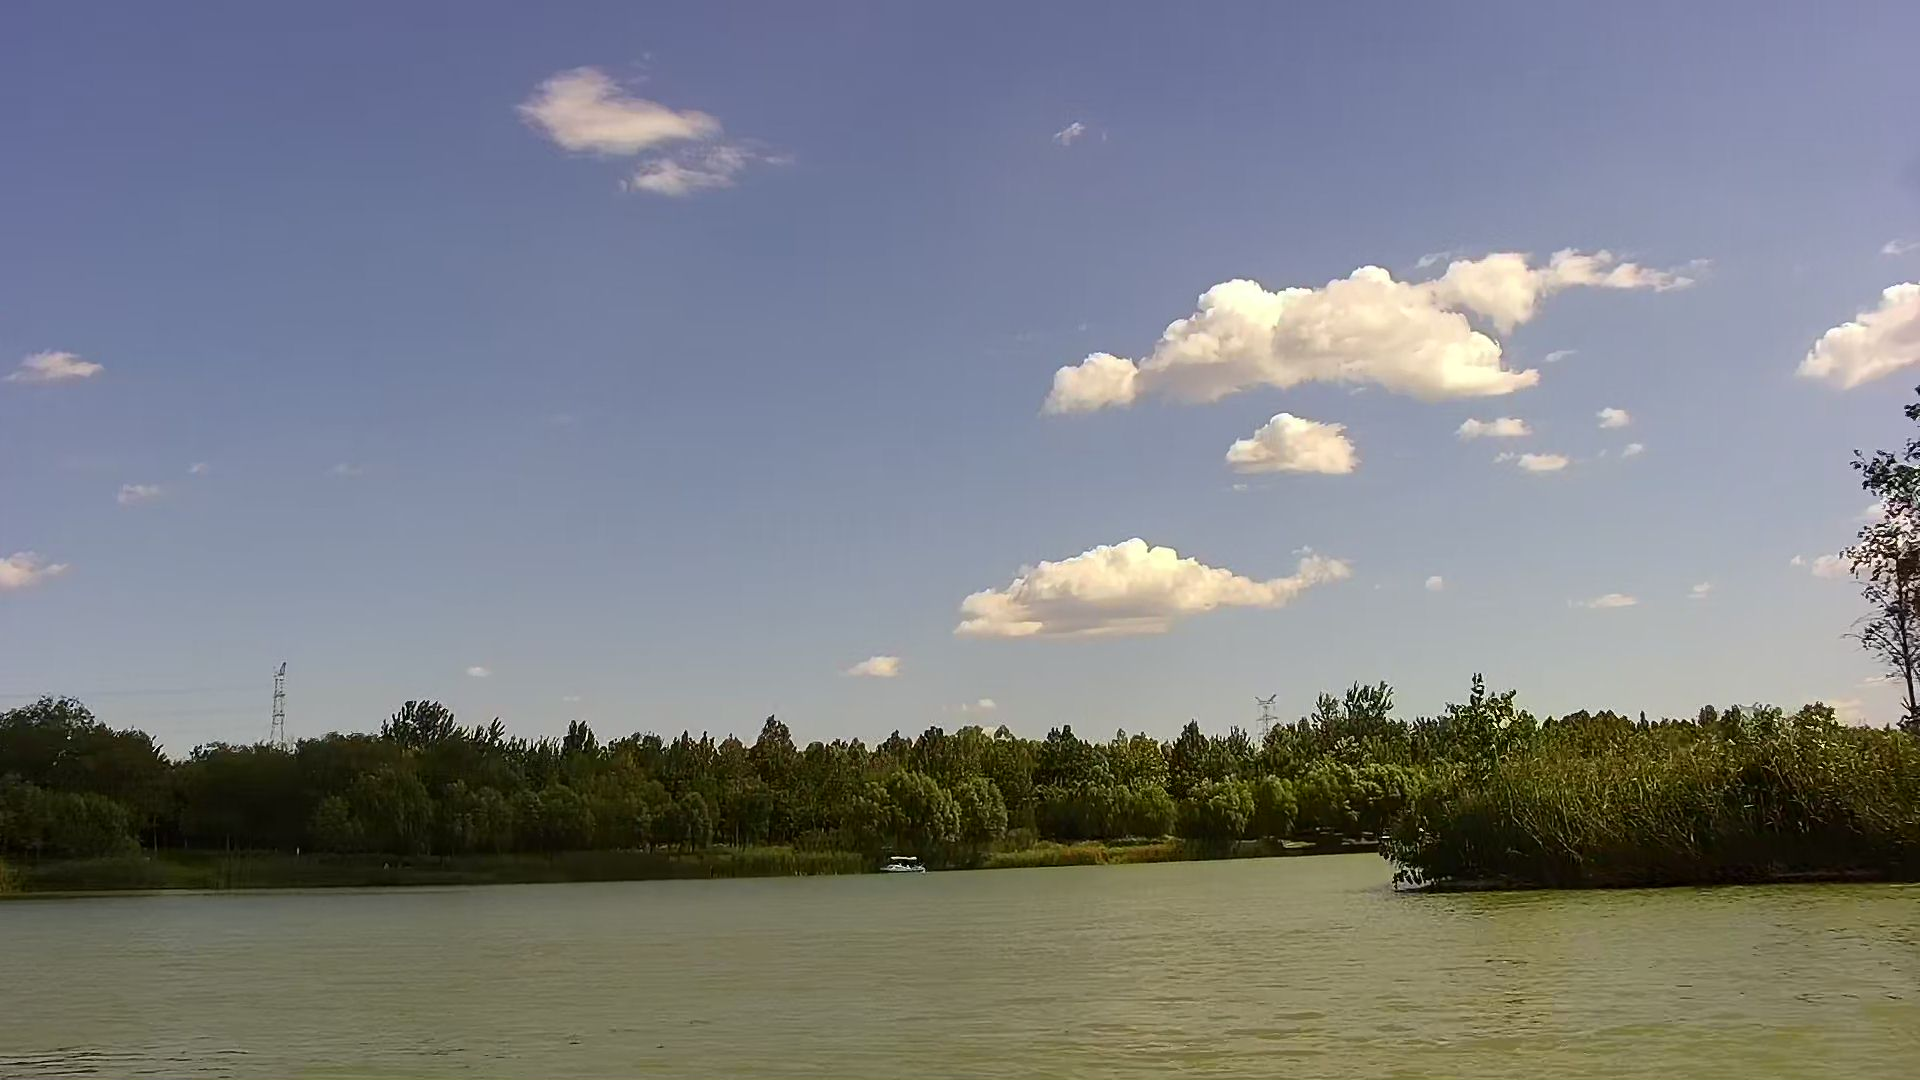boat: (880, 855, 930, 874)
